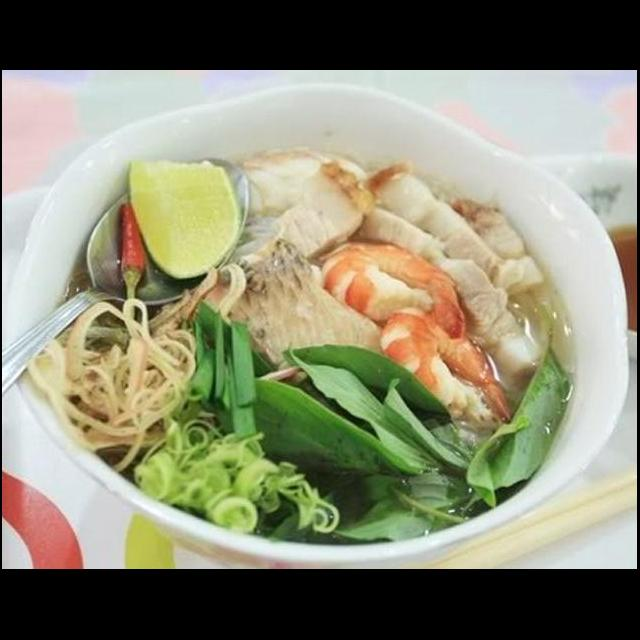ca: (202, 222, 392, 374)
thit heo quay: (352, 196, 542, 390), (356, 152, 508, 298), (228, 154, 380, 284)
tom: (314, 230, 474, 352), (374, 301, 518, 434)
